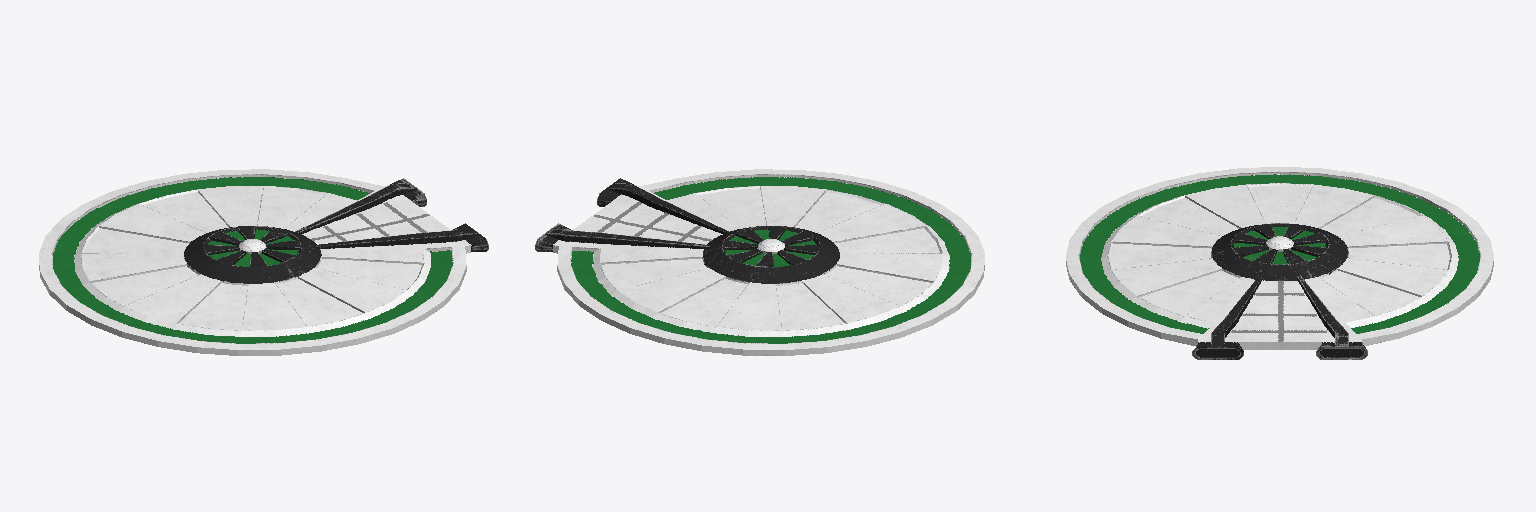
3 renders of one model, left to right at view 1: azimuth 30°, elevation 25°; view 2: azimuth 150°, elevation 25°; view 3: azimuth 270°, elevation 25°, orthographic.
Parts seen in each view (by area): view 1: Cylinder; view 2: Cylinder; view 3: Cylinder.
Part boxes in pixels (x1,y1,x2,y2): Cylinder: (39, 169, 488, 355); Cylinder: (535, 169, 984, 355); Cylinder: (1066, 167, 1493, 359).
Size of the model in its own units: 6.55 by 0.5082 by 6.43.
1 materials, 1 textured.